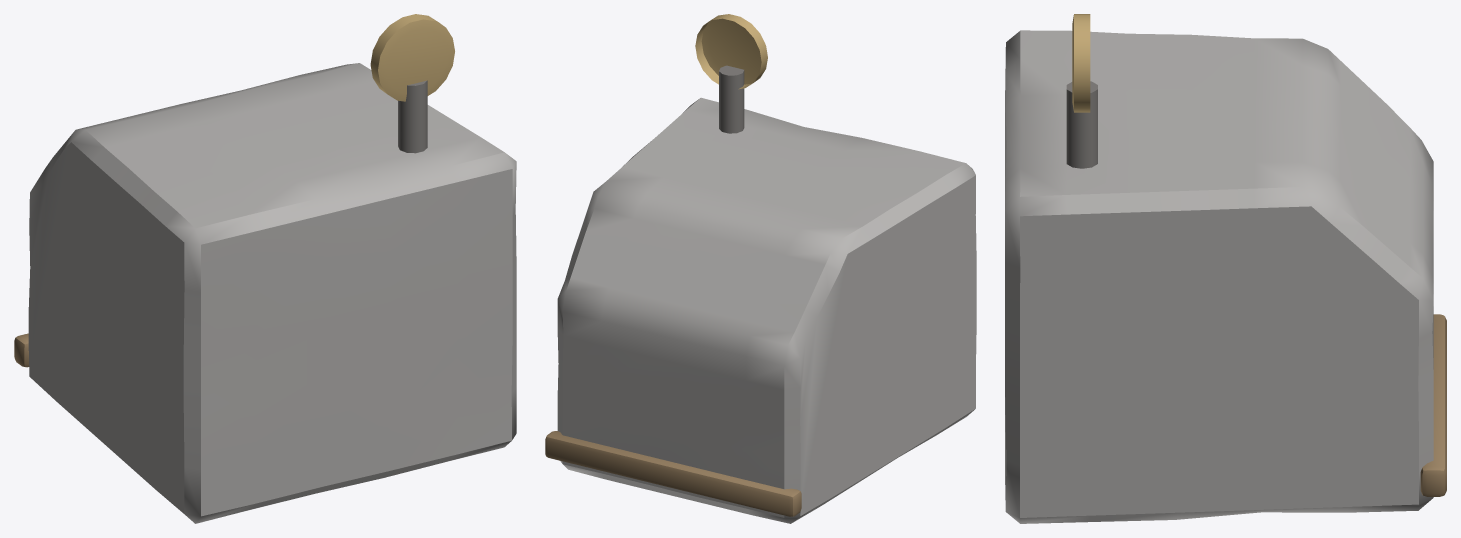
Rendered from SM_Area2_RimTooth_Small_B.glb.
3 views of the same model, side by side, from view 1: azimuth 30°, elevation 25°; view 2: azimuth 150°, elevation 25°; view 3: azimuth 270°, elevation 25° (orthographic). The views are drawn at different scales.
Parts seen in each view (by area): view 1: SM_Area2_RimTooth_Small_B; view 2: SM_Area2_RimTooth_Small_B; view 3: SM_Area2_RimTooth_Small_B.
Boxes of the visible parts, x1=… form: SM_Area2_RimTooth_Small_B: x1=14, y1=14, x2=516, y2=523; SM_Area2_RimTooth_Small_B: x1=545, y1=14, x2=976, y2=523; SM_Area2_RimTooth_Small_B: x1=1005, y1=14, x2=1446, y2=523.
Size of the model in its own units: 1.29 by 1.58 by 1.34.
